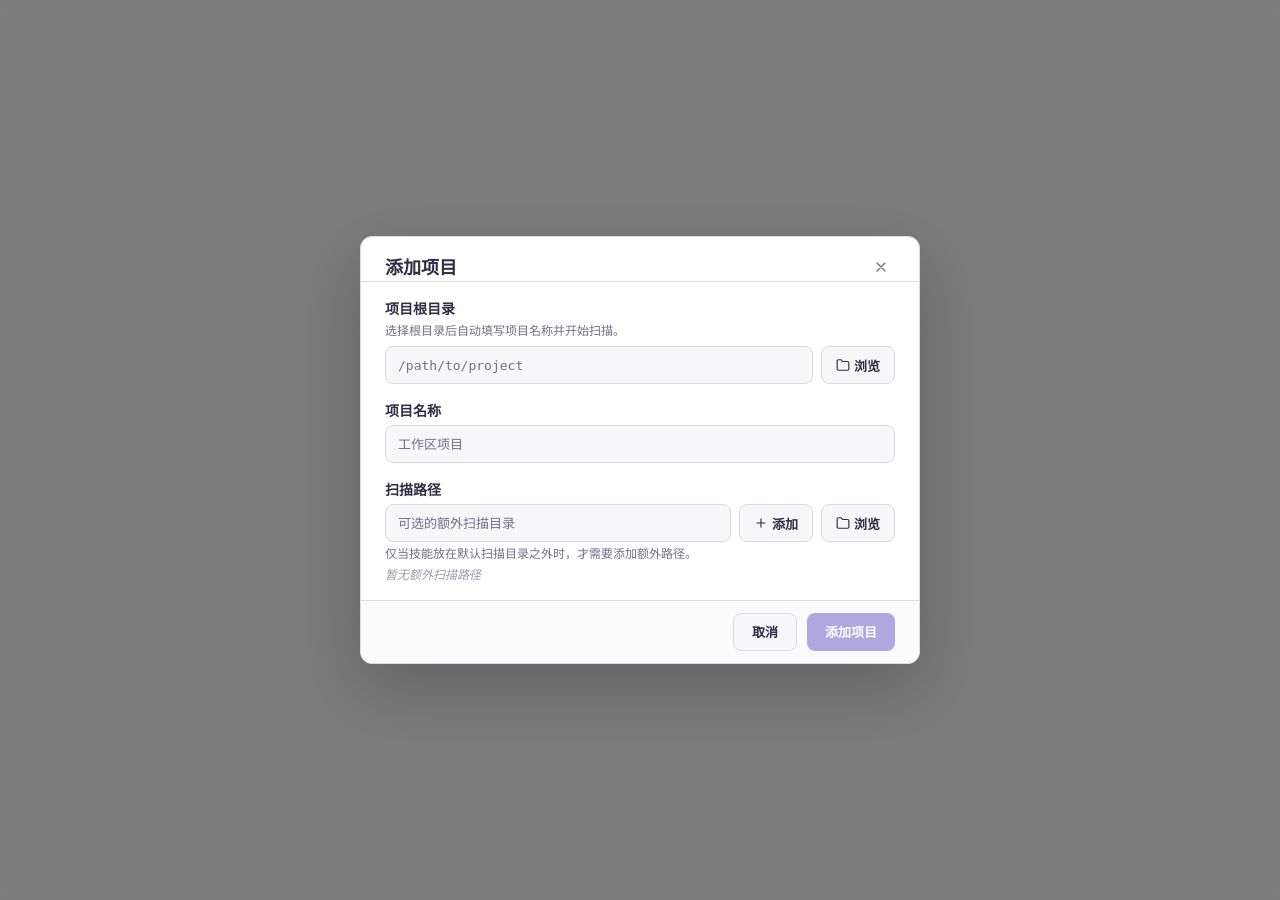
it: AddProjectModal › selectFolder fills project name from folder name
This screenshot has width=1280, height=900.
Click the button with class "btn-browse" below "选择根目录后自动填写项目名称并开始扫描。": (858, 365) x1=821 y1=346 x2=895 y2=384
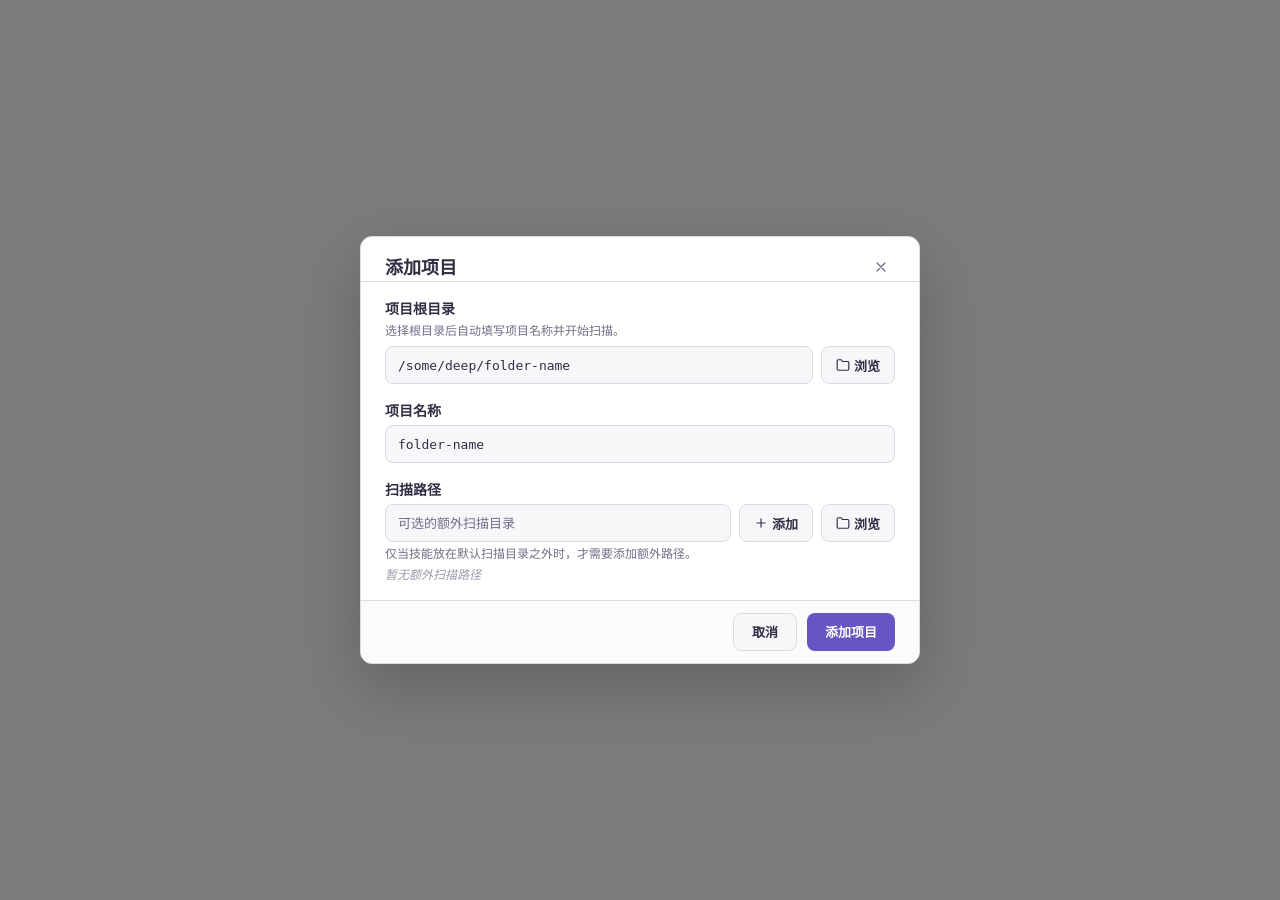
expect the 2nd field holds "folder-name": met, box x1=385 y1=425 x2=895 y2=463
